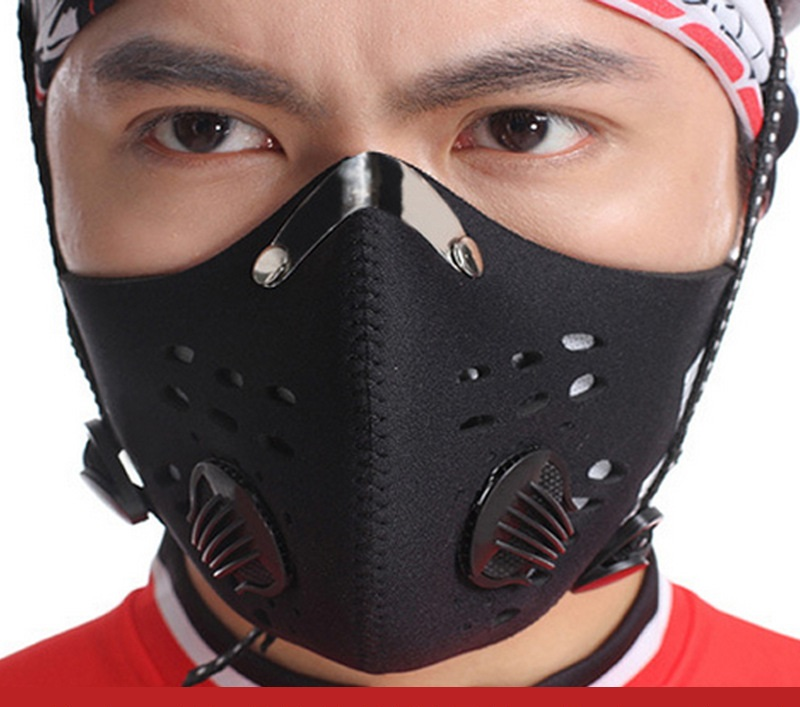face_mask: (56, 0, 730, 606)
